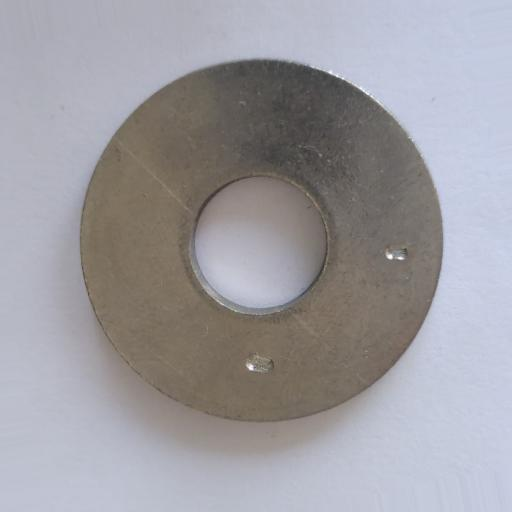circular_cavity: (245, 353, 274, 373), (384, 246, 407, 261)
